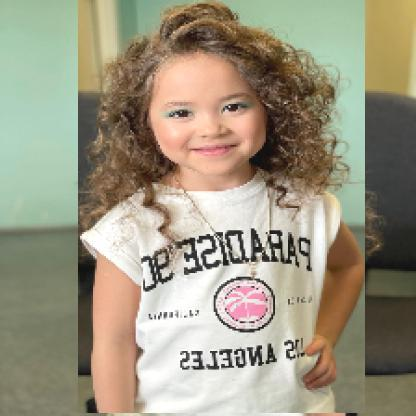child: (79, 1, 367, 415)
